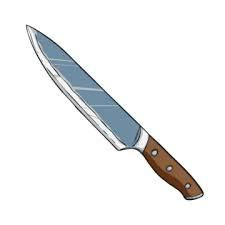Knife: (25, 23, 204, 200)
